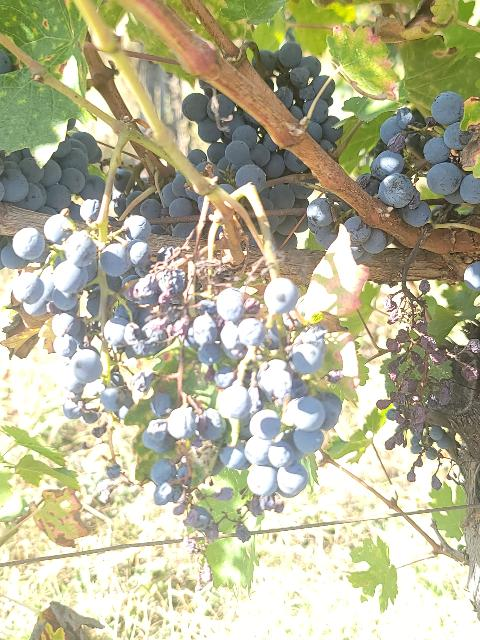grapes: (5, 210, 151, 421), (216, 278, 341, 499), (181, 80, 312, 238), (356, 91, 480, 228), (140, 262, 226, 452), (0, 131, 105, 219), (261, 42, 322, 120), (140, 171, 202, 219), (306, 82, 341, 151), (306, 191, 350, 242), (344, 216, 390, 255)
